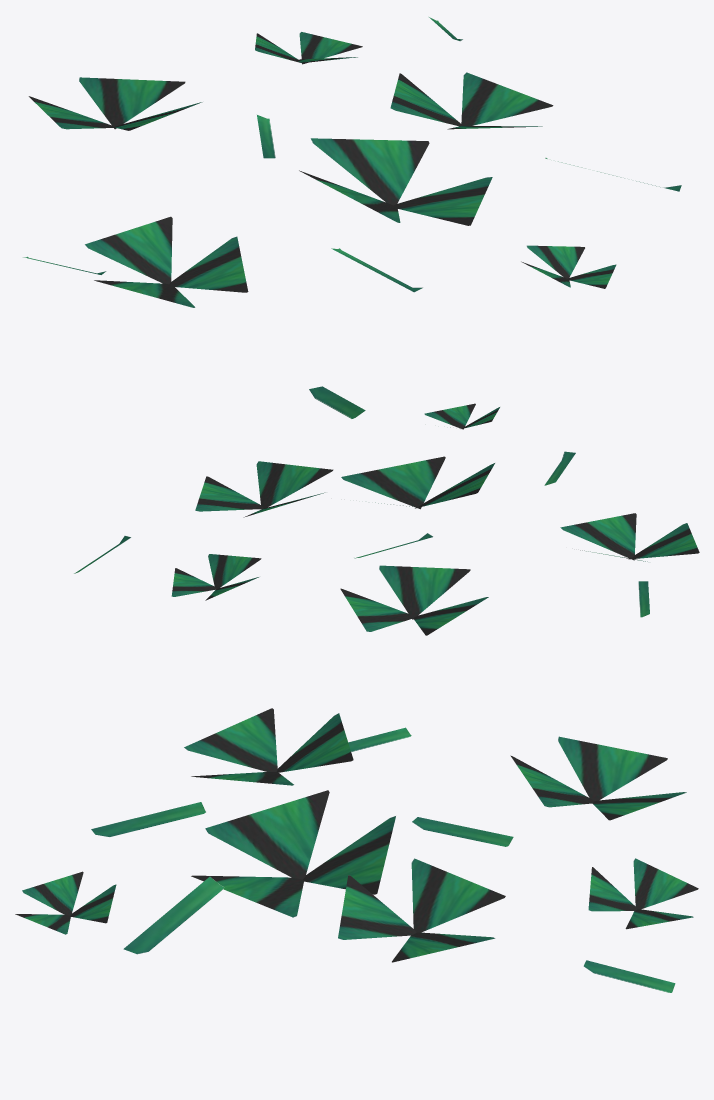
Rendered from Cloverbush.obj.
The picture shows the model from 3 angles, top to bottom: view 1: azimuth 30°, elevation 25°; view 2: azimuth 150°, elevation 25°; view 3: azimuth 270°, elevation 25°; orthographic projection. The views are drawn at different scales.
Visible parts, largest first — view 1: pCylinder39; view 2: pCylinder39; view 3: pCylinder39.
Part boxes in pixels (bbox=[...]): pCylinder39: bbox=[23, 17, 681, 307]; pCylinder39: bbox=[74, 386, 699, 635]; pCylinder39: bbox=[15, 708, 698, 992].
Size of the model in its own units: 5.79 by 1.39 by 5.34.
Materials: 1 (1 with a texture image).
